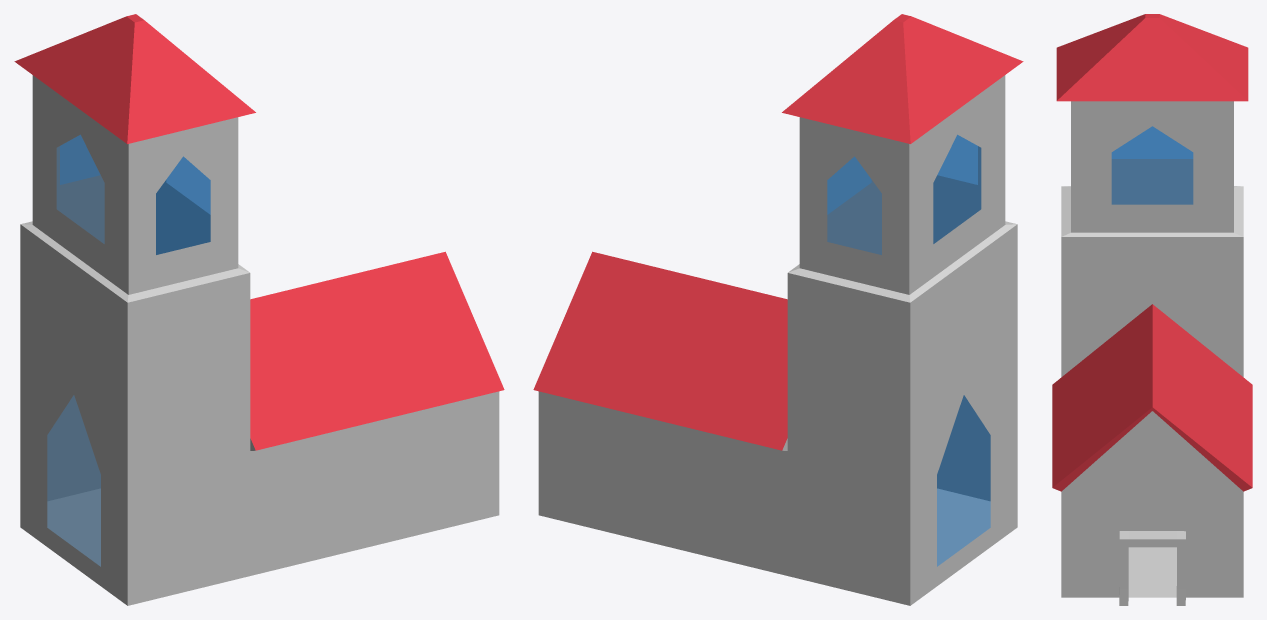
File: igreja.fbx
3 views of the same model, side by side, from view 1: azimuth 30°, elevation 25°; view 2: azimuth 150°, elevation 25°; view 3: azimuth 270°, elevation 25° (orthographic). The views are drawn at different scales.
Visible parts, largest first — view 1: Cube.001; view 2: Cube.001; view 3: Cube.001.
Boxes of the visible parts, left/top/right/bottom form: Cube.001: left=14, top=14, right=504, bottom=605; Cube.001: left=533, top=14, right=1023, bottom=605; Cube.001: left=1052, top=14, right=1252, bottom=605.
Bounding box in the file's own units: 4246 × 5488 × 2201.
